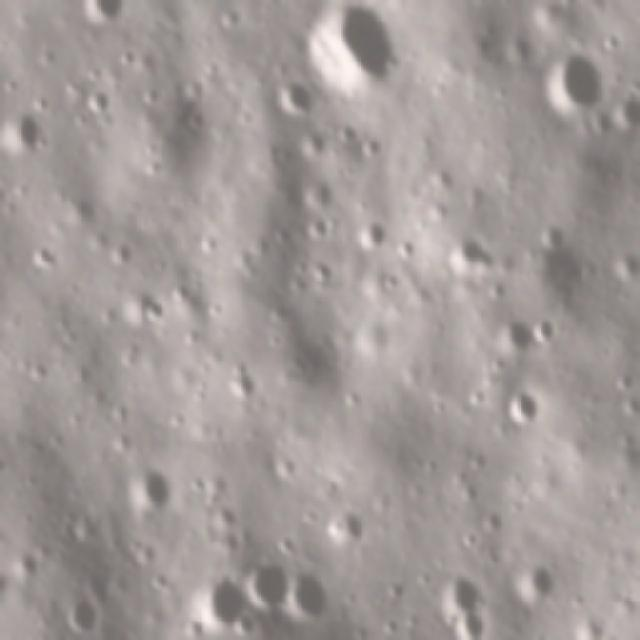crater: (302, 0, 424, 102), (534, 39, 606, 118), (424, 563, 491, 640), (192, 569, 254, 637), (436, 232, 506, 279), (244, 552, 293, 619), (272, 73, 326, 132), (510, 555, 561, 610), (128, 459, 178, 515), (53, 591, 110, 640), (290, 568, 335, 627), (497, 386, 546, 434), (1, 104, 44, 156), (349, 212, 394, 255), (193, 467, 239, 508), (328, 510, 369, 550), (136, 285, 172, 330), (25, 242, 69, 278), (532, 221, 576, 256), (606, 92, 640, 134), (80, 84, 118, 121), (530, 309, 564, 349), (267, 448, 302, 483), (106, 236, 140, 272), (609, 248, 640, 284), (450, 475, 484, 507), (82, 0, 133, 20), (482, 503, 509, 535)
